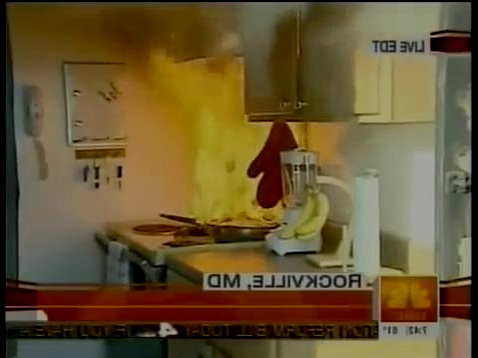fire: (176, 45, 294, 250)
